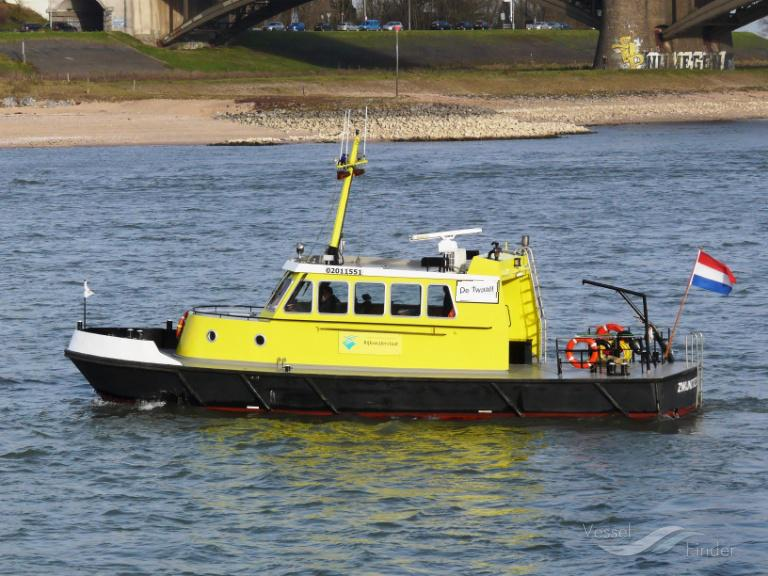OCR: (456, 280, 500, 302)
